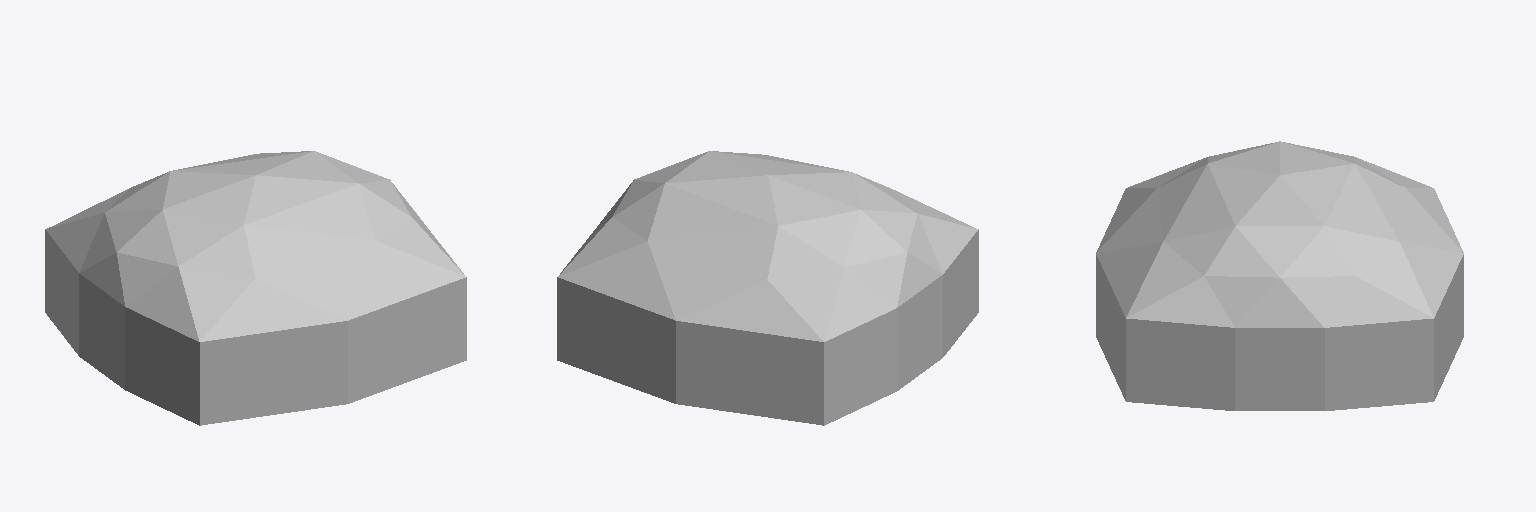
Rendered from Wall2.obj.
The picture shows the model from 3 angles: view 1: azimuth 30°, elevation 25°; view 2: azimuth 150°, elevation 25°; view 3: azimuth 270°, elevation 25°; orthographic projection.
Visible parts, largest first — view 1: Icosphere; view 2: Icosphere; view 3: Icosphere.
Part boxes in pixels (x1,y1,x2,y2): Icosphere: (45, 151, 466, 425); Icosphere: (557, 151, 978, 425); Icosphere: (1096, 141, 1463, 410).
Size of the model in its own units: 2.29 by 1.16 by 2.39.